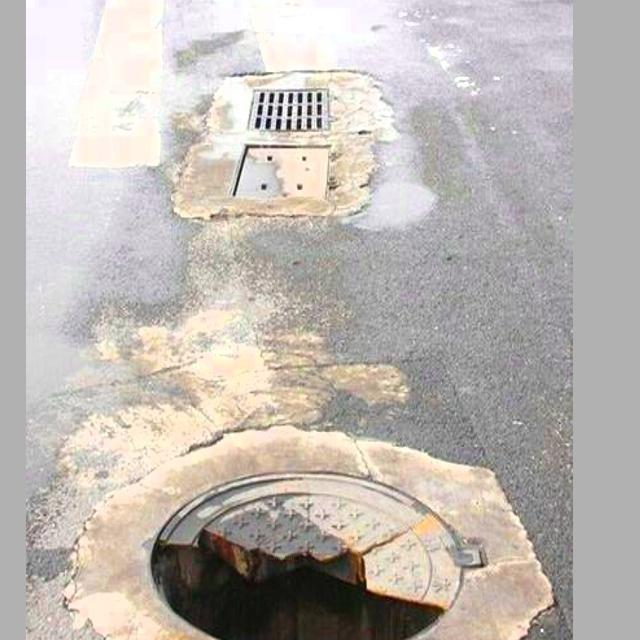broke: (76, 385, 538, 640)
